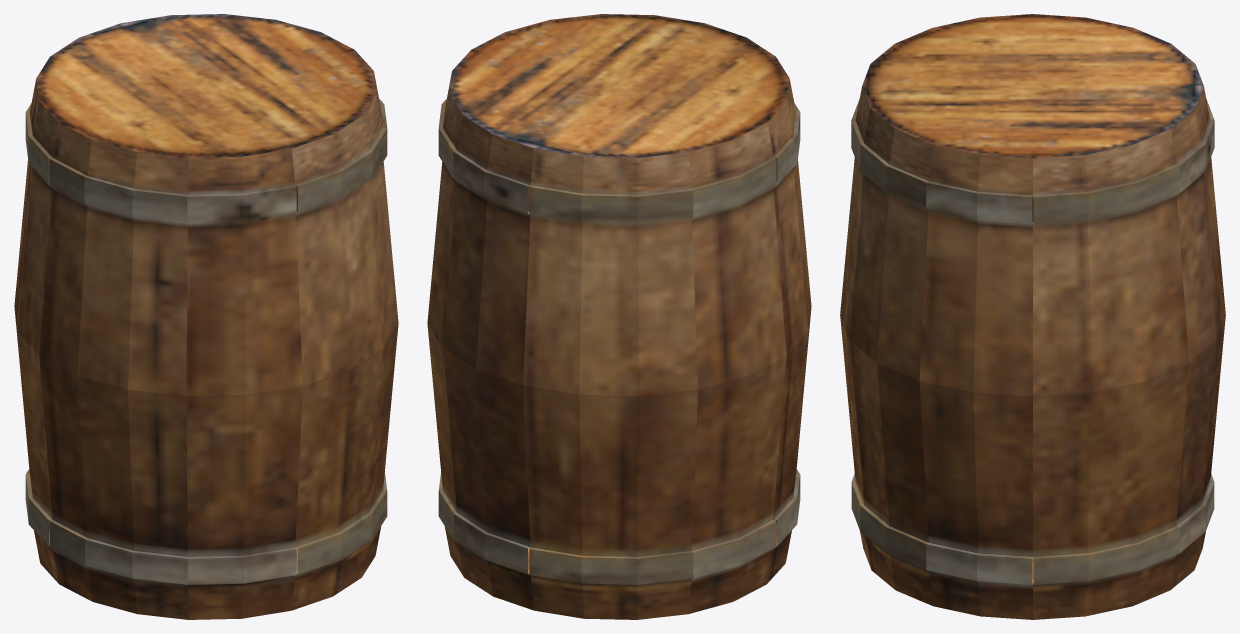
The model's file is barrel.fbx.
The picture shows the model from 3 angles, left to right: view 1: azimuth 30°, elevation 25°; view 2: azimuth 150°, elevation 25°; view 3: azimuth 270°, elevation 25°; orthographic projection.
Parts seen in each view (by area): view 1: Cube; view 2: Cube; view 3: Cube.
Boxes of the visible parts, x1,y1,x2,y2 form: Cube: [14, 14, 398, 619]; Cube: [427, 14, 811, 619]; Cube: [840, 14, 1225, 619].
Size of the model in its own units: 217 by 287 by 217.
Materials: 1 (1 with a texture image).
